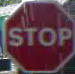Stop: (2, 1, 74, 73)
